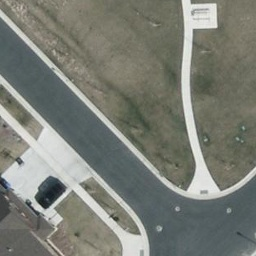car: (36, 181, 65, 213)
